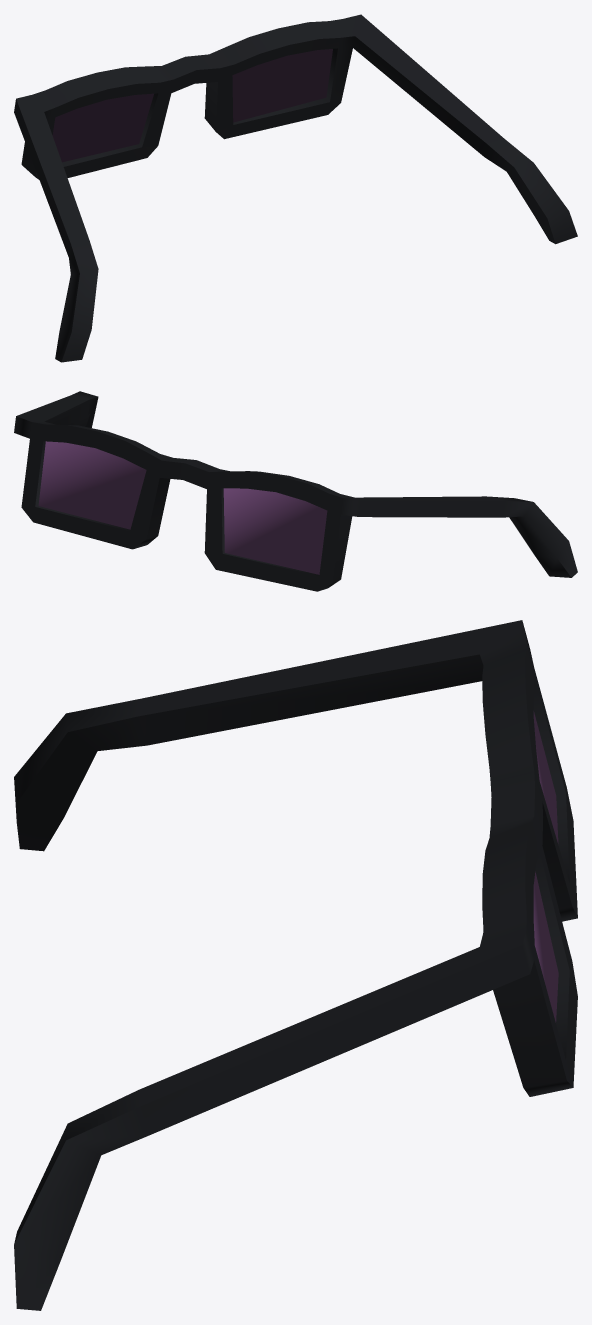
File: hat_sunglasses.glb
3 views of the same model, one above another, from view 1: azimuth 30°, elevation 25°; view 2: azimuth 150°, elevation 25°; view 3: azimuth 270°, elevation 25° (orthographic). The views are drawn at different scales.
Visible parts, largest first — view 1: hat_sunglasses; view 2: hat_sunglasses; view 3: hat_sunglasses.
Part boxes in pixels (x1,y1,x2,y2): hat_sunglasses: [14, 14, 577, 362]; hat_sunglasses: [14, 391, 577, 591]; hat_sunglasses: [14, 620, 577, 1310].
Size of the model in its own units: 0.5094 by 0.1476 by 0.2498.
